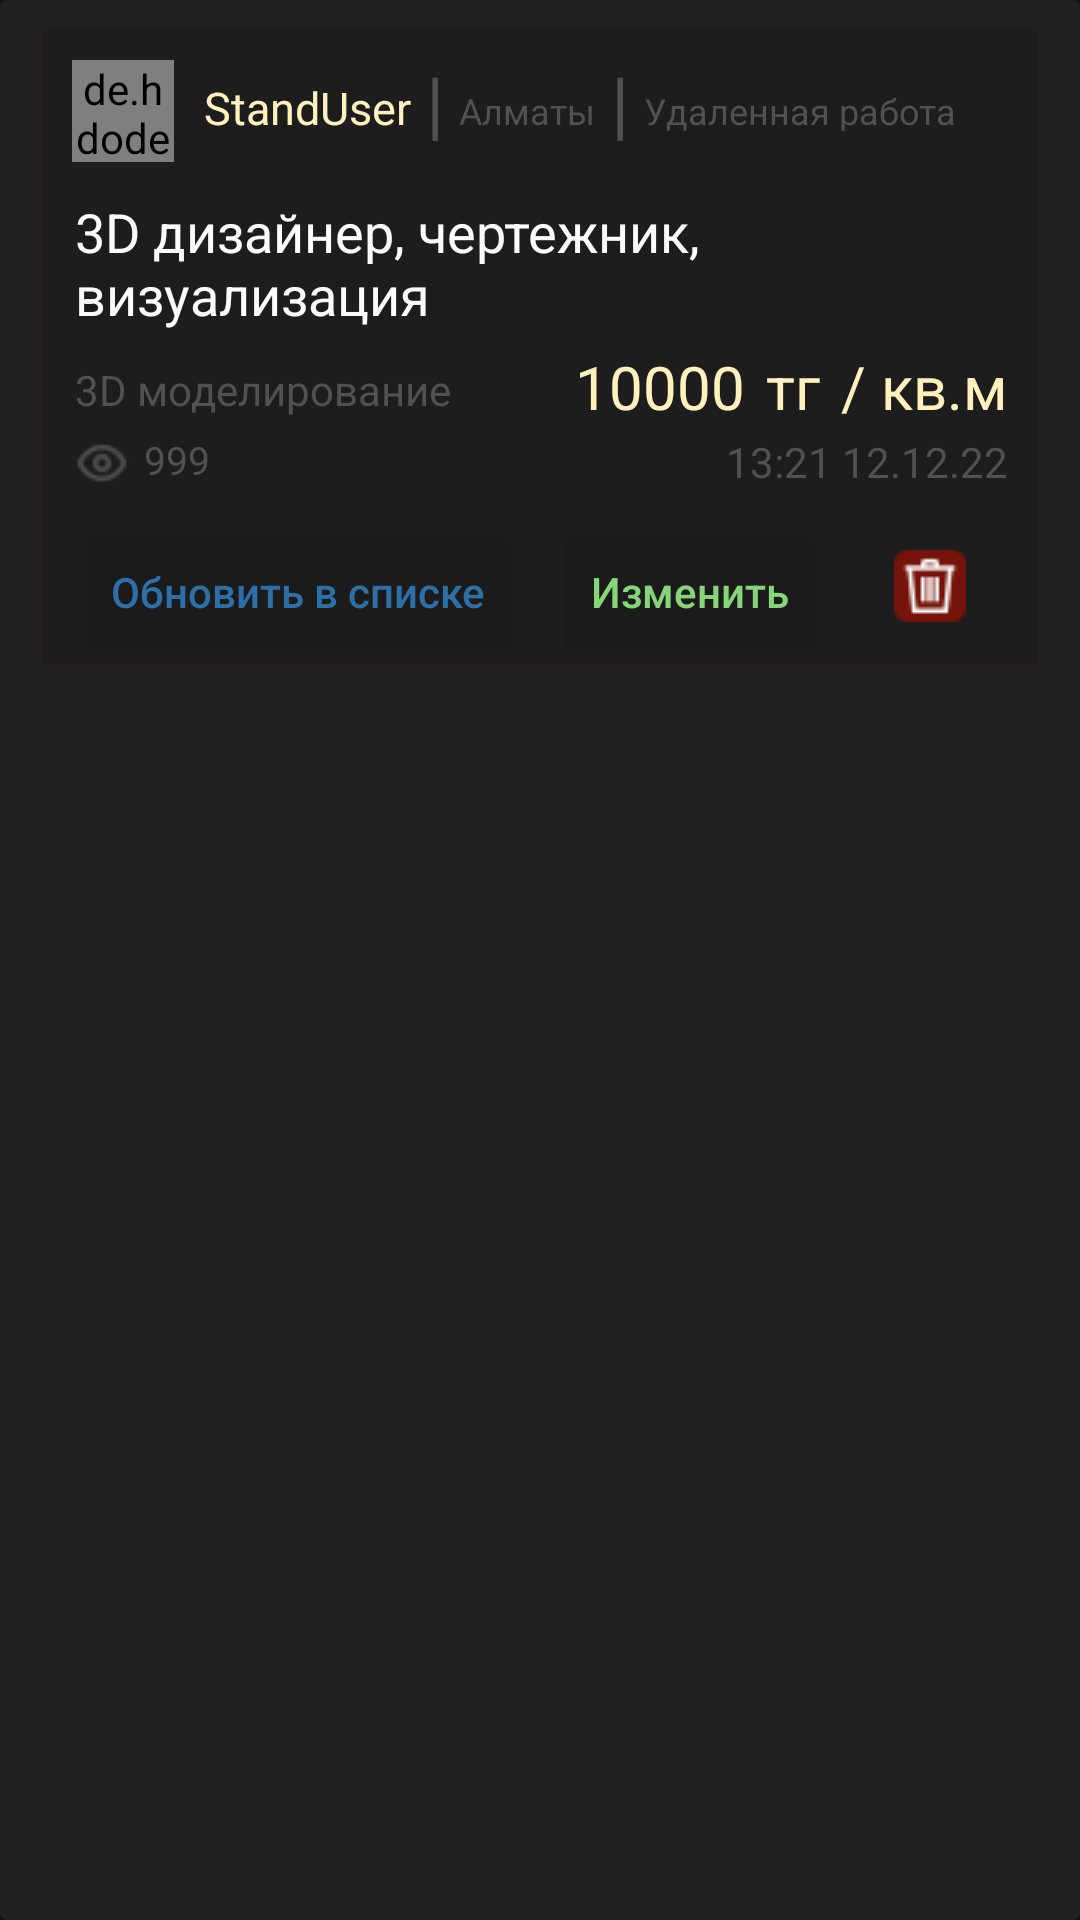

Named icons in this screenshot (1080px×1920px) and their centers, (x=x, y=y):
delete: (x=930, y=586)
open eye: (x=102, y=463)
